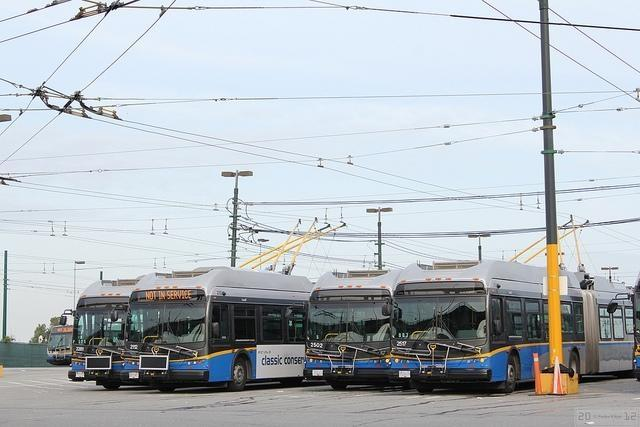bus: (390, 260, 634, 394), (117, 264, 307, 394), (302, 269, 398, 380), (70, 281, 132, 378), (47, 325, 71, 367)
